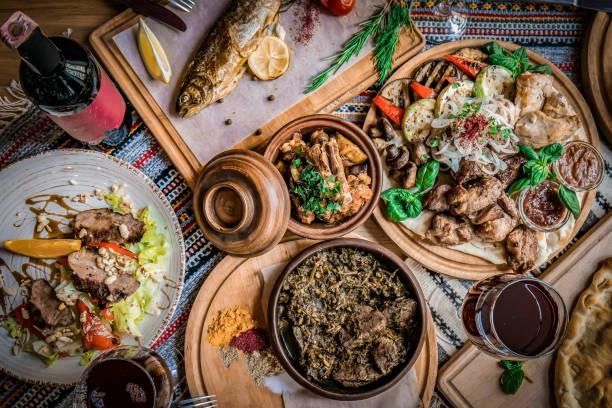Braised Crucian Carp: (359, 36, 598, 275), (1, 147, 186, 384), (268, 238, 426, 401), (261, 115, 380, 240)
